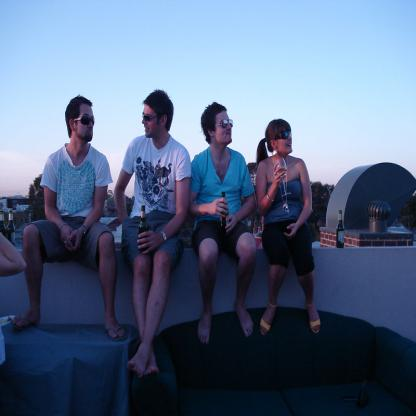drinking: (275, 157, 291, 197), (137, 206, 149, 252), (6, 211, 15, 254), (220, 192, 229, 230), (336, 210, 345, 248), (0, 209, 6, 251)
